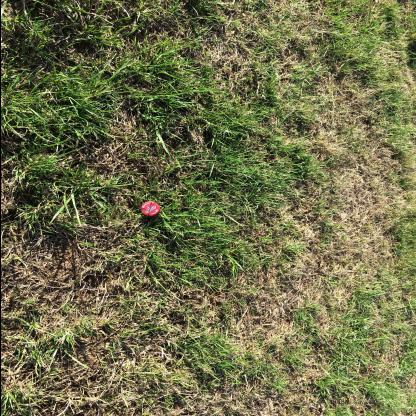metal: (139, 202, 159, 216)
